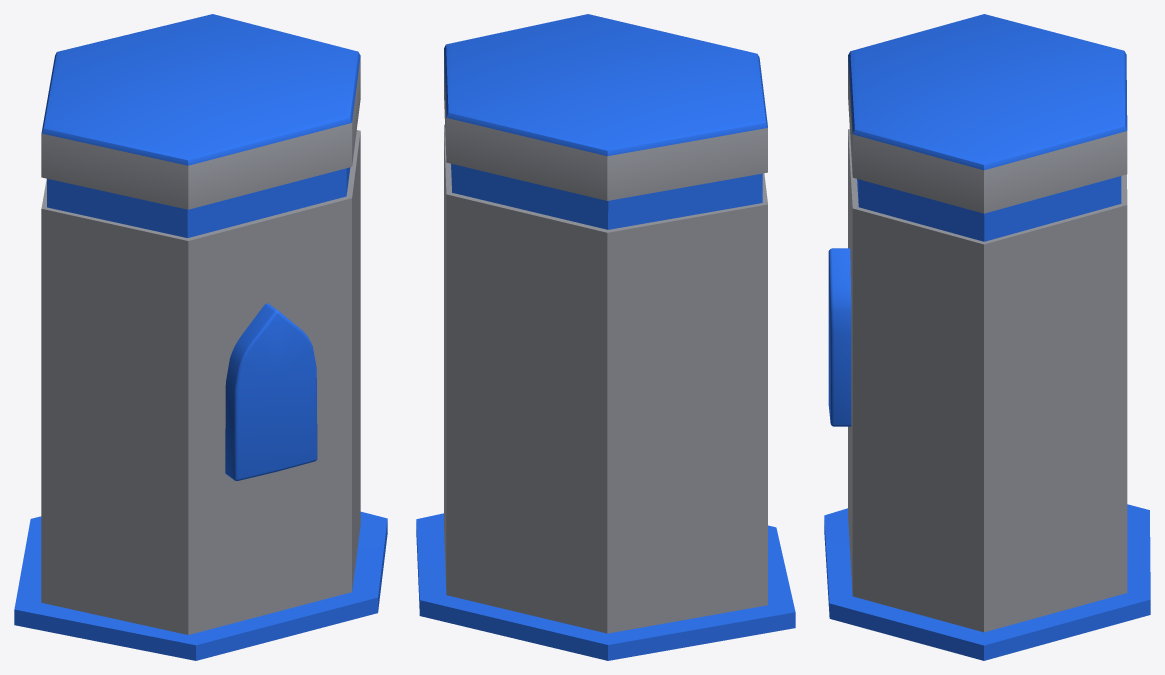
Rendered from BLUEEEEE CASTLE.fbx.
3 renders of one model, left to right at view 1: azimuth 30°, elevation 25°; view 2: azimuth 150°, elevation 25°; view 3: azimuth 270°, elevation 25°, orthographic. The views are drawn at different scales.
Visible parts, largest first — view 1: Circle.001; view 2: Circle.001; view 3: Circle.001.
Boxes of the visible parts, x1=… form: Circle.001: x1=14, y1=14, x2=387, y2=660; Circle.001: x1=416, y1=14, x2=795, y2=660; Circle.001: x1=824, y1=14, x2=1150, y2=660.
Size of the model in its own units: 1.94 by 2.47 by 1.49.
